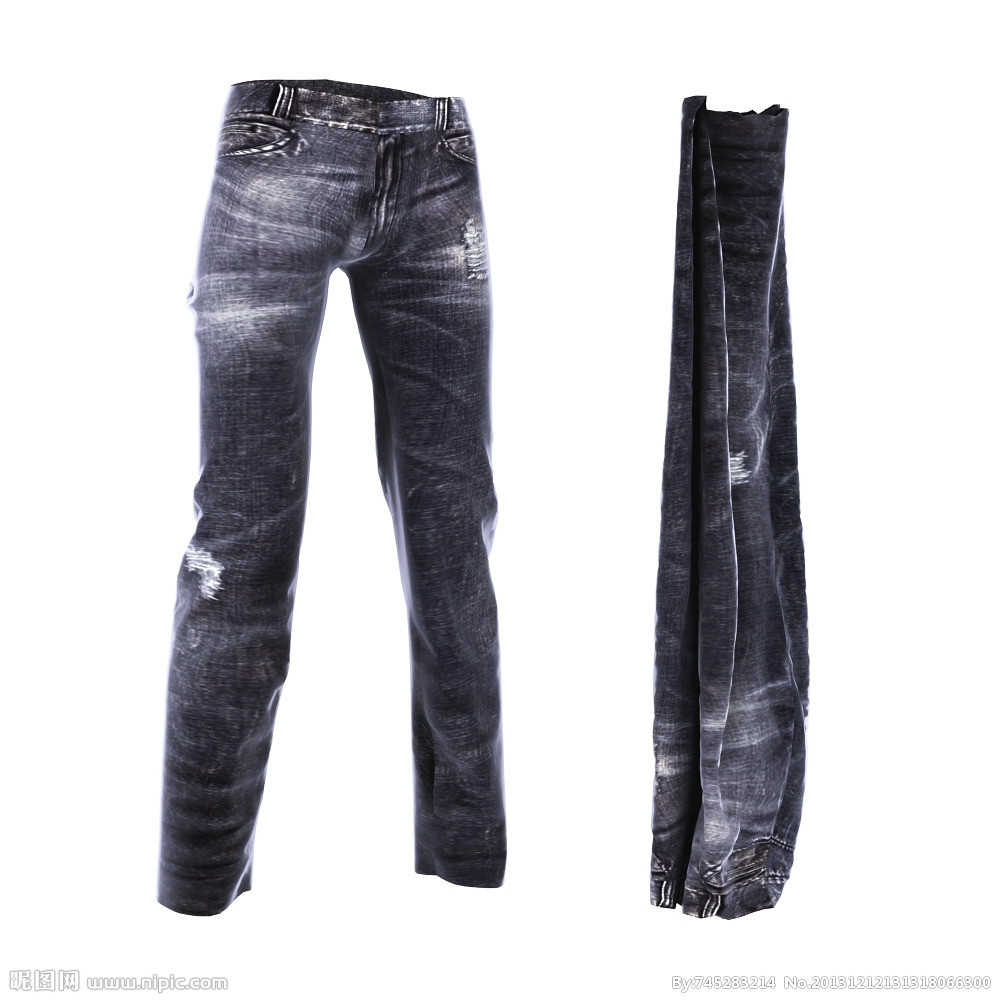flexible: (160, 82, 510, 917), (653, 92, 813, 913)
